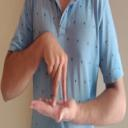hand: (40, 32, 69, 107), (30, 96, 80, 123)
